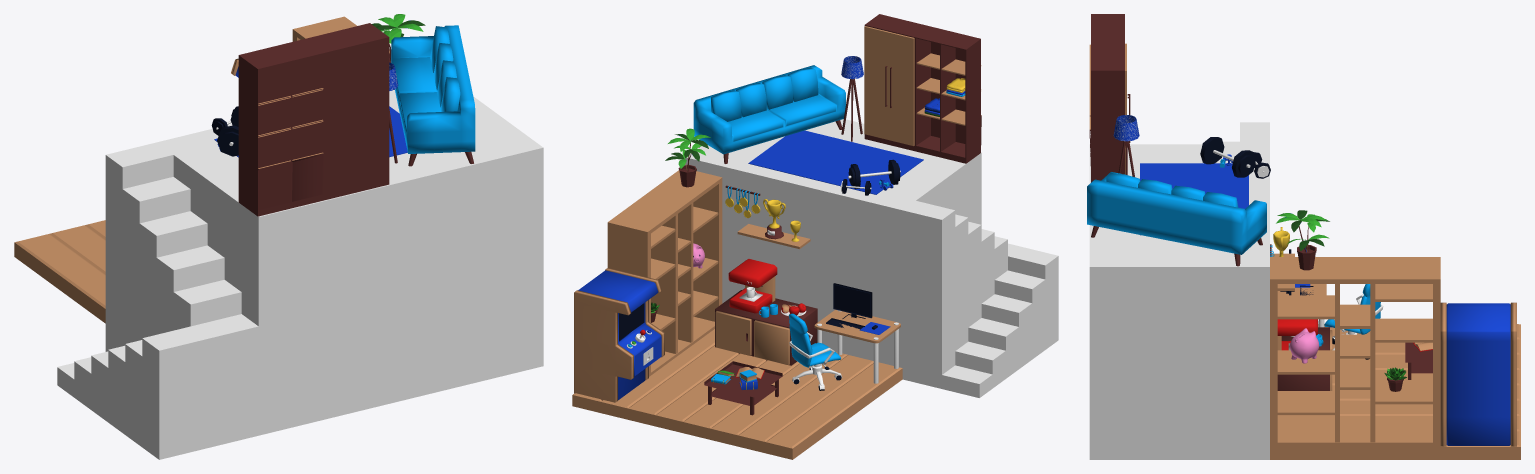
File: RoomWithCat.glb
3 views of the same model, side by side, from view 1: azimuth 30°, elevation 25°; view 2: azimuth 150°, elevation 25°; view 3: azimuth 270°, elevation 25° (orthographic). The views are drawn at different scales.
Visible parts, largest first — view 1: Room, Shop, Sport; view 2: Room, Shop, GameMashine, CoffeeMachine, Computer, TableWithBooks, Cups, Sport; view 3: Room, GameMashine, Shop, CoffeeMachine, Sport, TableWithBooks, Object_11, Cups, Computer.
Boxes of the visible parts, <box> form: Room: <box>14,14,543,459</box>; Shop: <box>238,23,389,216</box>; Sport: <box>211,106,238,156</box>; Room: <box>572,56,1058,459</box>; Shop: <box>864,14,981,163</box>; GameMashine: <box>574,267,664,402</box>; CoffeeMachine: <box>715,259,817,365</box>; Computer: <box>814,283,900,383</box>; TableWithBooks: <box>704,361,782,415</box>; Cups: <box>725,185,810,249</box>; Sport: <box>840,159,900,195</box>; Room: <box>1087,115,1520,459</box>; GameMashine: <box>1440,302,1516,446</box>; Shop: <box>1089,14,1130,182</box>; CoffeeMachine: <box>1277,319,1332,390</box>; Sport: <box>1200,137,1270,178</box>; TableWithBooks: <box>1405,342,1432,379</box>; Object_11: <box>1290,328,1319,363</box>; Cups: <box>1270,227,1294,290</box>; Computer: <box>1277,249,1326,327</box>.
Bounding box in the file's own units: 5.53 × 5.02 × 6.1.
